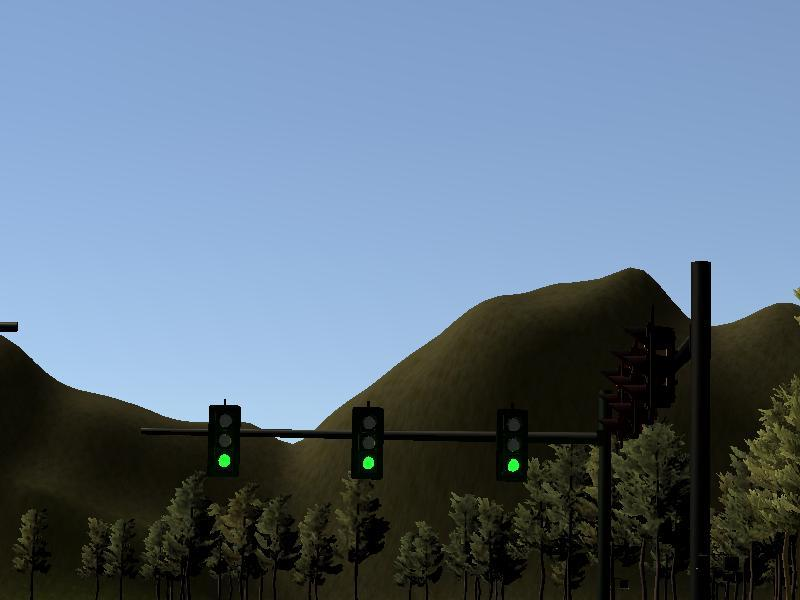Green: (497, 409, 527, 481), (352, 407, 382, 479), (209, 405, 239, 477)
